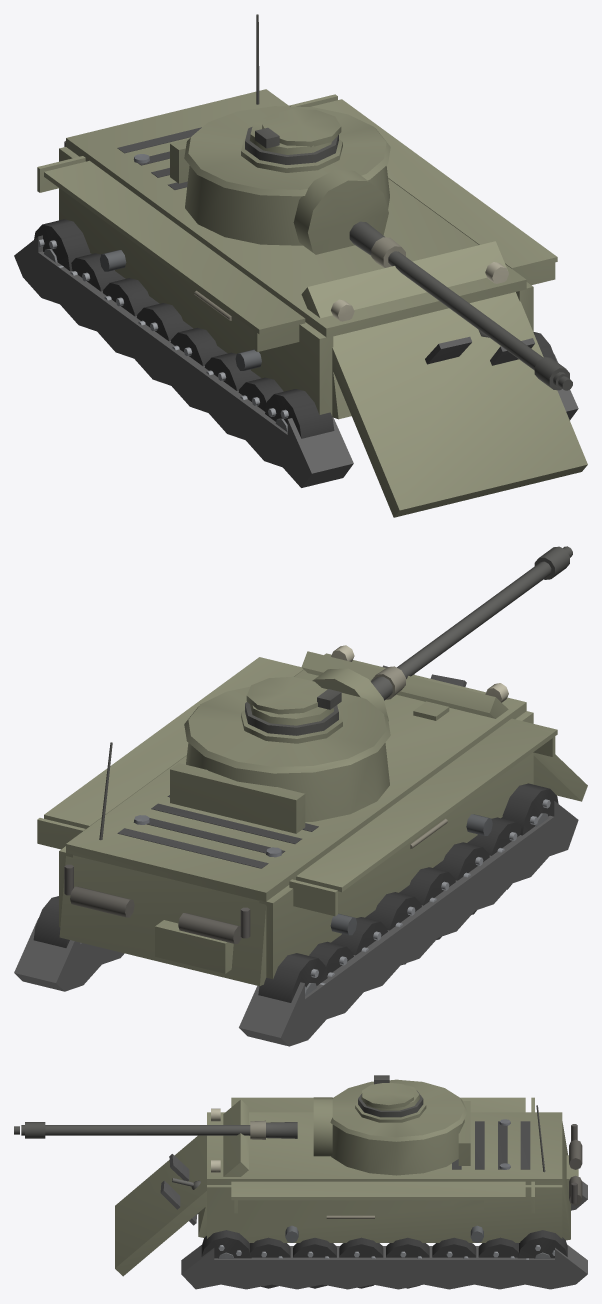
3 renders of one model, top to bottom at view 1: azimuth 30°, elevation 25°; view 2: azimuth 150°, elevation 25°; view 3: azimuth 270°, elevation 25°, orthographic. The views are drawn at different scales.
Parts seen in each view (by area): view 1: glacis, hullSide, hullTop, tracks, turretSide, turretFront, mantlet, turretRoof, barrel, wheel6, wheel7, wheel1 (+6 smaller); view 2: hullSide, hullTop, tracks, hullRear, turretSide, turretFront, glacis, turretRear, turretRoof, barrel, wheel7, wheel6 (+8 smaller); view 3: hullSide, hullTop, tracks, glacis, turretSide, turretFront, barrel, turretRoof, hullRear, mantlet, wheel14, wheel15 (+7 smaller).
Part boxes in pixels (bbox=[...]): glacis: bbox=[301, 241, 587, 517]; hullSide: bbox=[37, 94, 557, 415]; hullTop: bbox=[66, 89, 526, 337]; tracks: bbox=[14, 235, 578, 487]; turretSide: bbox=[184, 106, 390, 196]; turretFront: bbox=[185, 165, 389, 245]; mantlet: bbox=[293, 170, 388, 254]; turretRoof: bbox=[241, 109, 342, 172]; barrel: bbox=[349, 221, 572, 390]; wheel6: bbox=[265, 389, 334, 438]; wheel7: bbox=[34, 219, 91, 271]; wheel1: bbox=[103, 278, 159, 316]; hullSide: bbox=[37, 645, 557, 979]; hullTop: bbox=[66, 653, 526, 901]; tracks: bbox=[14, 799, 578, 1046]; hullRear: bbox=[59, 742, 266, 986]; turretSide: bbox=[184, 687, 390, 773]; turretFront: bbox=[186, 743, 389, 821]; glacis: bbox=[301, 651, 587, 801]; turretRear: bbox=[170, 763, 305, 833]; turretRoof: bbox=[241, 676, 342, 743]; barrel: bbox=[371, 546, 572, 700]; wheel7: bbox=[258, 953, 327, 1002]; wheel6: bbox=[501, 783, 558, 835]; hullSide: bbox=[207, 1097, 562, 1242]; hullTop: bbox=[207, 1112, 562, 1184]; tracks: bbox=[181, 1181, 587, 1289]; glacis: bbox=[115, 1099, 249, 1276]; turretSide: bbox=[330, 1079, 467, 1141]; turretFront: bbox=[331, 1119, 464, 1175]; barrel: bbox=[14, 1120, 297, 1139]; turretRoof: bbox=[355, 1075, 426, 1122]; hullRear: bbox=[536, 1105, 582, 1240]; mantlet: bbox=[313, 1097, 332, 1156]; wheel14: bbox=[201, 1230, 251, 1258]; wheel15: bbox=[517, 1230, 567, 1259].
Bounding box in the file's own units: 3.9 × 3.03 × 9.53.
